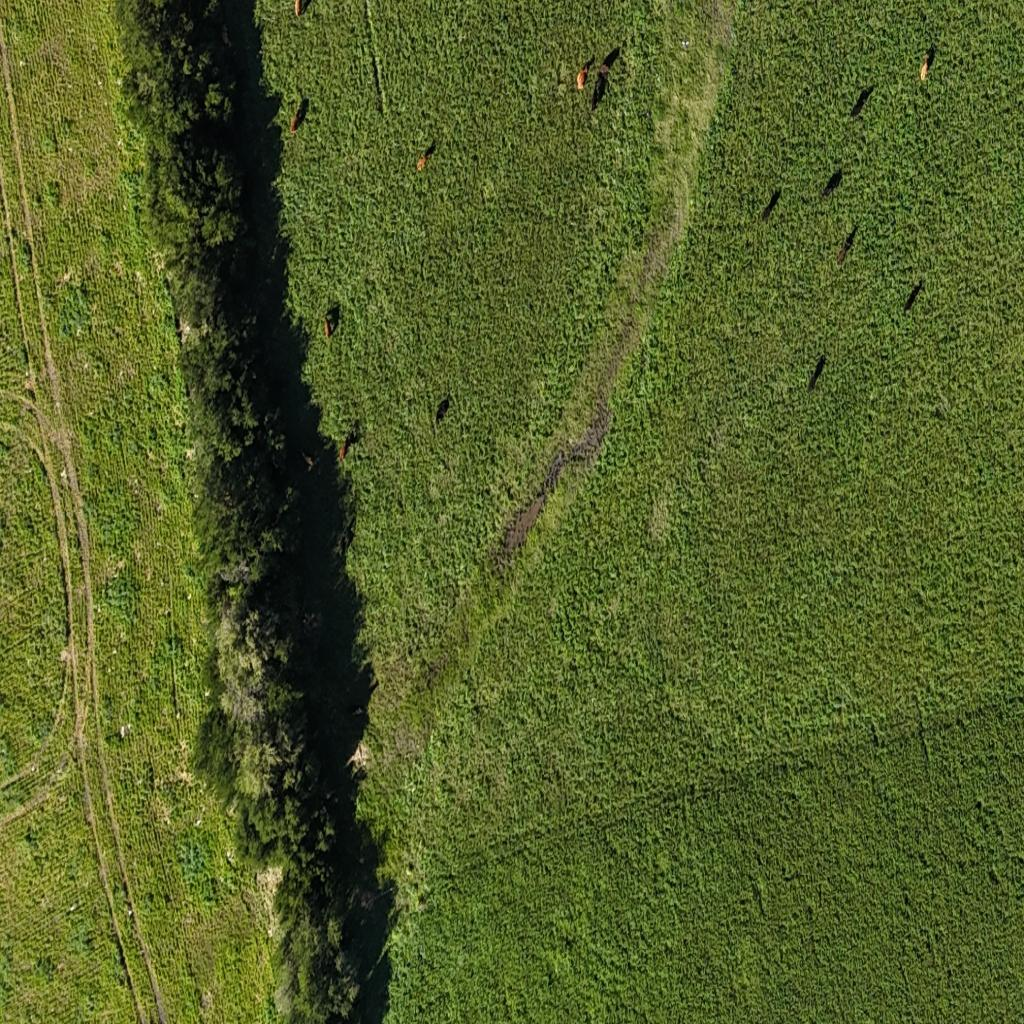cow: (838, 225, 857, 267), (338, 518, 357, 558), (851, 85, 873, 118), (808, 353, 826, 393), (266, 90, 284, 128), (761, 188, 781, 222), (821, 168, 842, 200), (904, 280, 924, 313), (598, 46, 620, 74), (591, 71, 606, 112), (290, 98, 307, 134), (339, 428, 356, 464), (324, 304, 339, 339), (920, 46, 934, 83), (417, 143, 434, 173), (435, 395, 450, 426), (292, 0, 307, 18), (577, 69, 588, 90)
